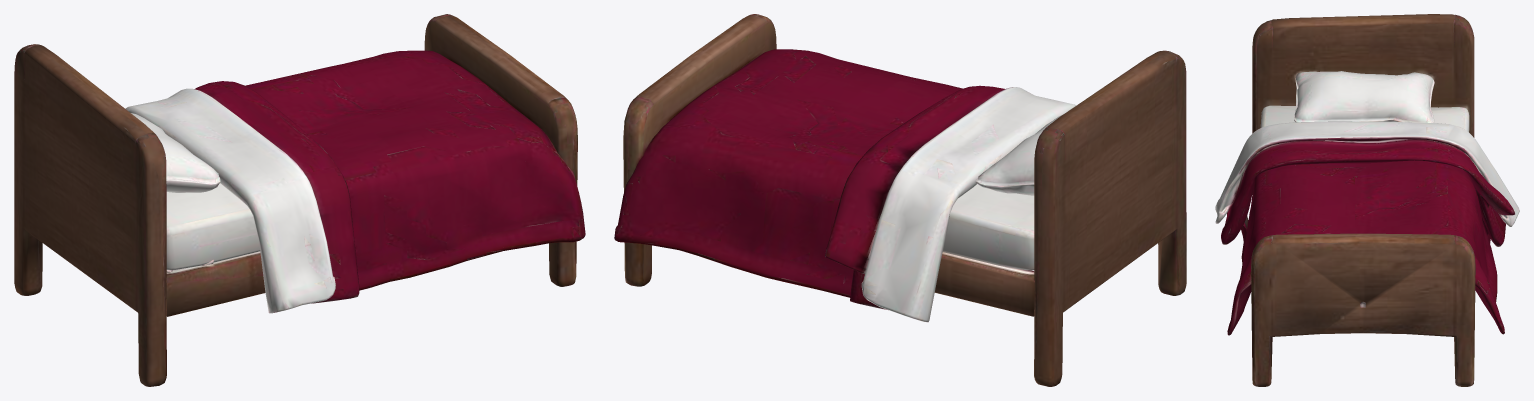
File: bed.glb
The picture shows the model from 3 angles, left to right: view 1: azimuth 30°, elevation 25°; view 2: azimuth 150°, elevation 25°; view 3: azimuth 270°, elevation 25°; orthographic projection. The views are drawn at different scales.
Parts seen in each view (by area): view 1: Model; view 2: Model; view 3: Model.
Part boxes in pixels (x1=…): Model: x1=14, y1=14, x2=585, y2=386; Model: x1=614, y1=14, x2=1186, y2=386; Model: x1=1215, y1=14, x2=1519, y2=386.
Bounding box in the file's own units: 0.9995 × 0.5562 × 0.7505.
Materials: 1 (1 with a texture image).
